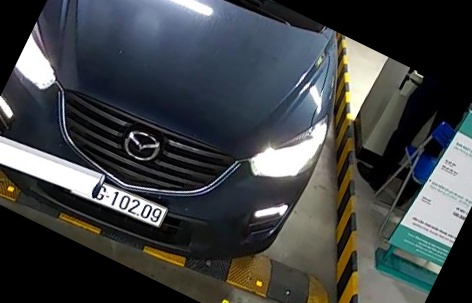plate: (71, 166, 173, 233)
